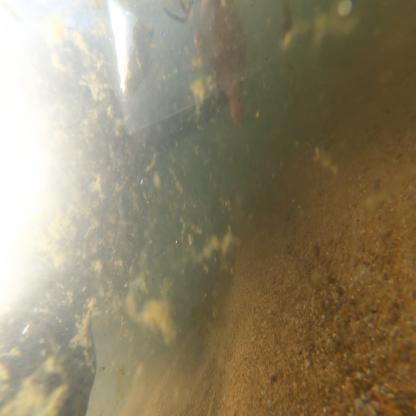Rác: (107, 1, 299, 118)
